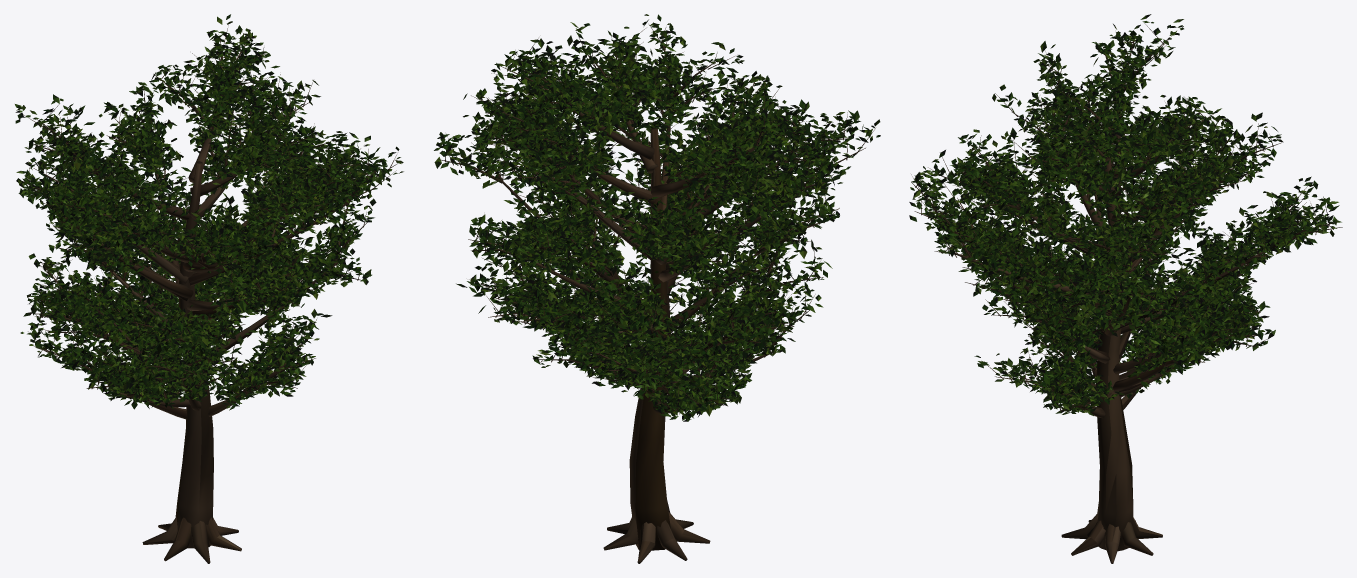
The model's file is broadleaf-photo.glb.
The picture shows the model from 3 angles, left to right: view 1: azimuth 30°, elevation 25°; view 2: azimuth 150°, elevation 25°; view 3: azimuth 270°, elevation 25°; orthographic projection. The views are drawn at different scales.
Parts seen in each view (by area): view 1: Tree | individual folded leaves, Tree | trunk, roots and branching structure; view 2: Tree | individual folded leaves, Tree | trunk, roots and branching structure; view 3: Tree | individual folded leaves, Tree | trunk, roots and branching structure.
Part boxes in pixels (<box>): Tree | individual folded leaves: <box>15,14,403,410</box>; Tree | trunk, roots and branching structure: <box>22,24,397,563</box>; Tree | individual folded leaves: <box>434,14,880,421</box>; Tree | trunk, roots and branching structure: <box>437,26,875,563</box>; Tree | individual folded leaves: <box>909,14,1341,415</box>; Tree | trunk, roots and branching structure: <box>911,23,1342,563</box>.
Size of the model in its own units: 7.11 by 8.67 by 7.16.
6 materials, 6 textured.
